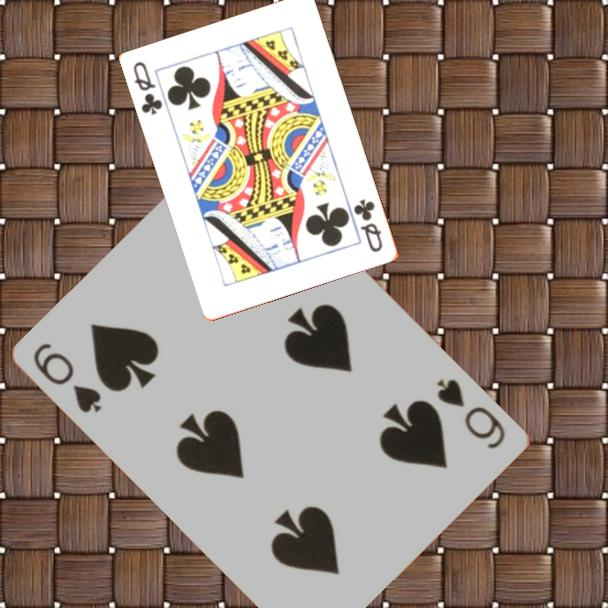c12: (130, 58, 166, 118), (350, 196, 386, 255)
s06: (433, 374, 510, 452), (30, 339, 106, 417)
